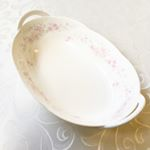other: (11, 7, 147, 130)
